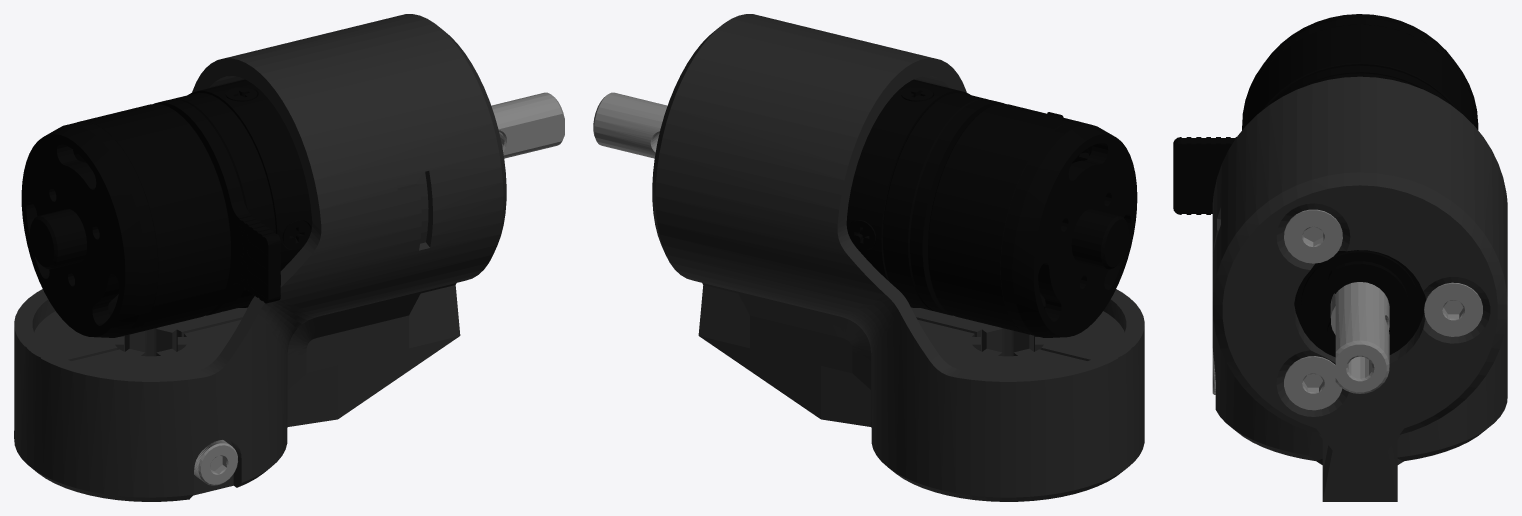
Rendered from Hip_L.obj.
3 renders of one model, left to right at view 1: azimuth 30°, elevation 25°; view 2: azimuth 150°, elevation 25°; view 3: azimuth 270°, elevation 25°, orthographic. The views are drawn at different scales.
Parts seen in each view (by area): view 1: Hip_L.001; view 2: Hip_L.001; view 3: Hip_L.001.
Boxes of the visible parts, bbox=[...] form: Hip_L.001: bbox=[14, 14, 564, 501]; Hip_L.001: bbox=[593, 14, 1144, 501]; Hip_L.001: bbox=[1173, 14, 1507, 501].
Size of the model in its own units: 0.066 by 0.043 by 0.034.
Materials: 1 (1 with a texture image).
